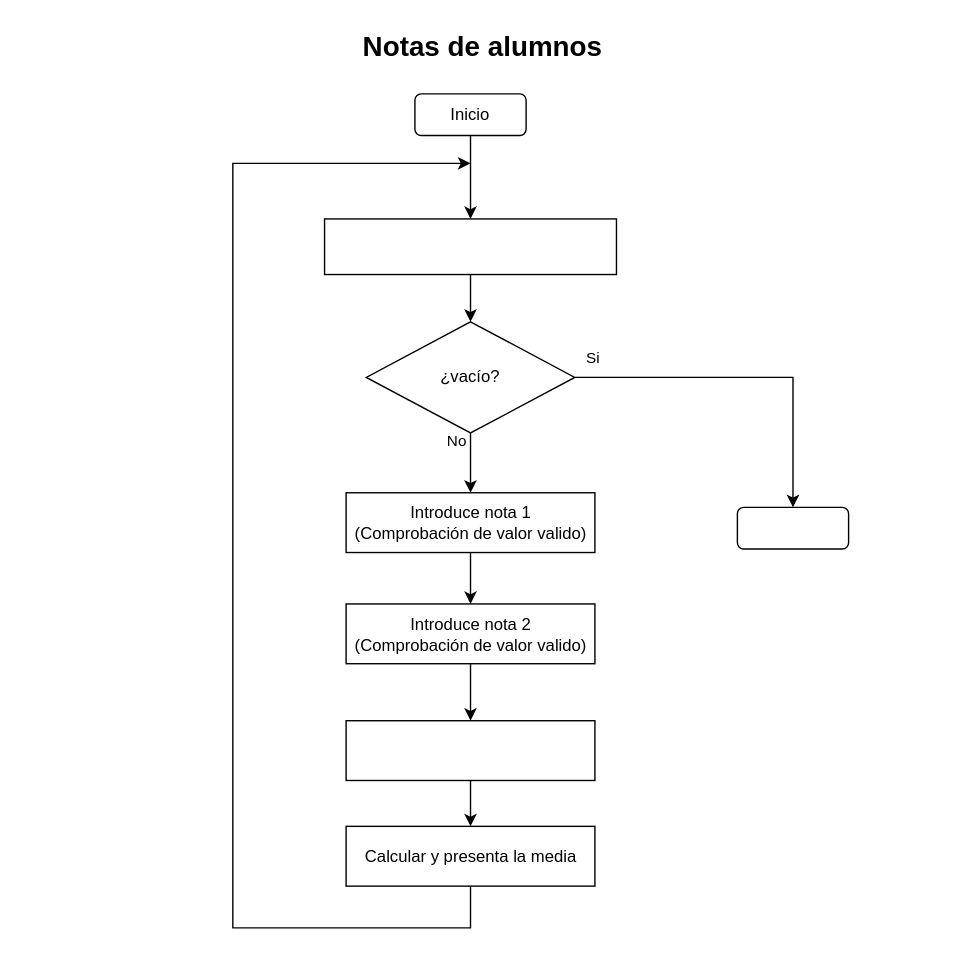
This 965x963 diagram has some shape labels left out. The box of each missing label's shape, as (x1, y1, x2, y2) in pixels:
Fin: (736, 506, 849, 549)
Introduce nota 3 (Comprobación de valor valido): (345, 719, 595, 780)
Leer nombre de alumno: (323, 218, 616, 275)
